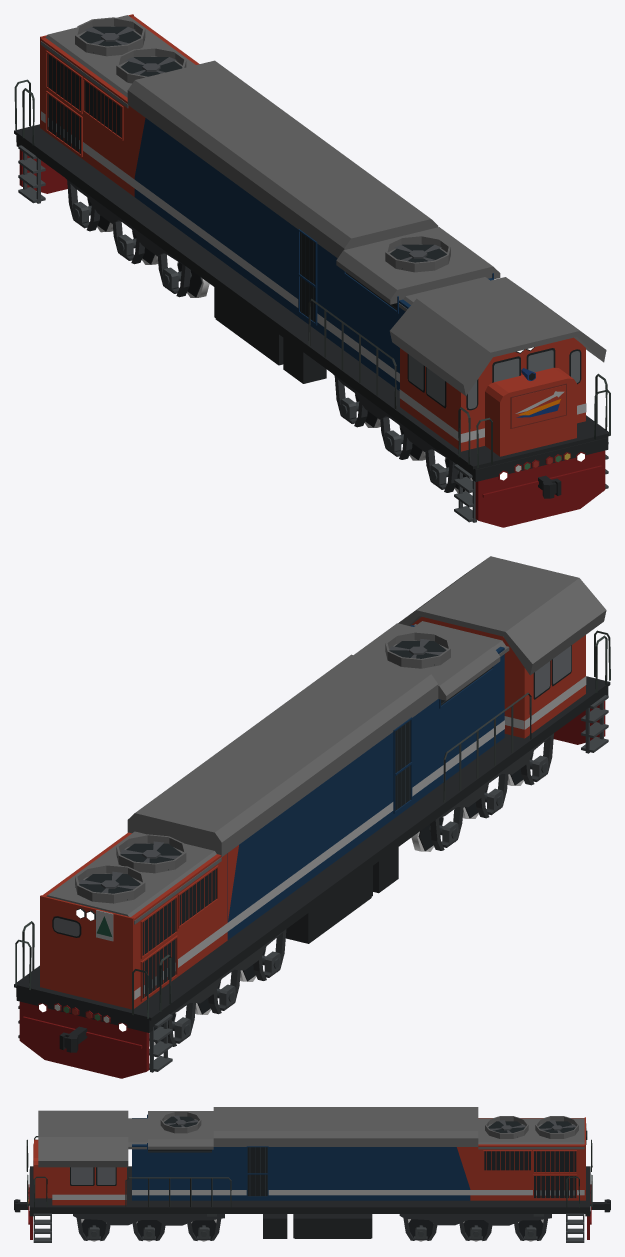
File: cc205-rebuild-low-packed.glb
3 views of the same model, one above another, from view 1: azimuth 30°, elevation 25°; view 2: azimuth 150°, elevation 25°; view 3: azimuth 270°, elevation 25° (orthographic). The views are drawn at different scales.
Visible parts, largest first — view 1: locomotive-body, rail-bogie--1, rail-bogie-1; view 2: locomotive-body, rail-bogie-1, rail-bogie--1; view 3: locomotive-body, rail-bogie--1, rail-bogie-1, rail-wheel-2-1, rail-wheel-5-1, rail-wheel-3-1, rail-wheel-0-1, rail-wheel-1-1, rail-wheel-4-1.
Boxes of the visible parts, x1,y1,x2,y2 form: locomotive-body: (14, 14, 610, 527); rail-bogie--1: (65, 178, 191, 297); rail-bogie-1: (333, 374, 458, 492); locomotive-body: (14, 556, 610, 1078); rail-bogie-1: (429, 733, 553, 850); rail-bogie--1: (161, 929, 286, 1046); locomotive-body: (26, 1107, 592, 1242); rail-bogie--1: (399, 1214, 551, 1240); rail-bogie-1: (73, 1214, 224, 1240); rail-wheel-2-1: (408, 1219, 437, 1241); rail-wheel-5-1: (81, 1219, 106, 1241); rail-wheel-3-1: (191, 1219, 216, 1241); rail-wheel-0-1: (518, 1219, 543, 1241); rail-wheel-1-1: (463, 1220, 488, 1241); rail-wheel-4-1: (136, 1220, 161, 1241).
Size of the model in its own units: 2.86 by 3.55 by 16.93.
